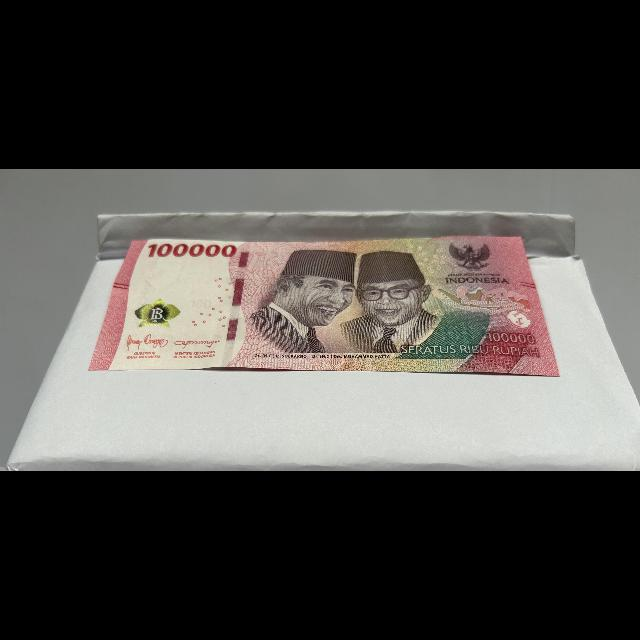Asli-100k: (85, 230, 564, 380)
Tinta-Asli-100k: (129, 297, 185, 329)
